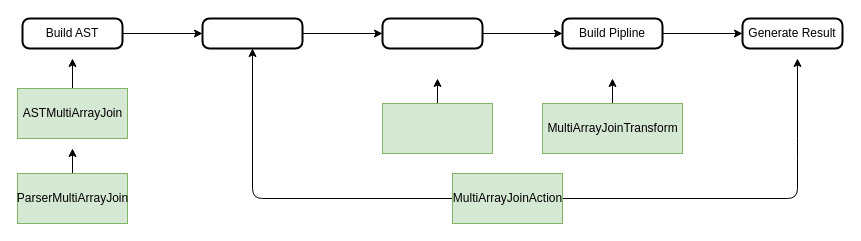
The diagram is 861 pixels wide and 241 high, and some of its shapes have lost their labels. Here are the shapes that lost their labels. From the top down, the centre of each, then its label:
the point at 252,33: Query Analyze
the point at 432,33: Build Query Plan
the point at 437,128: MultiArrayJoinStep
